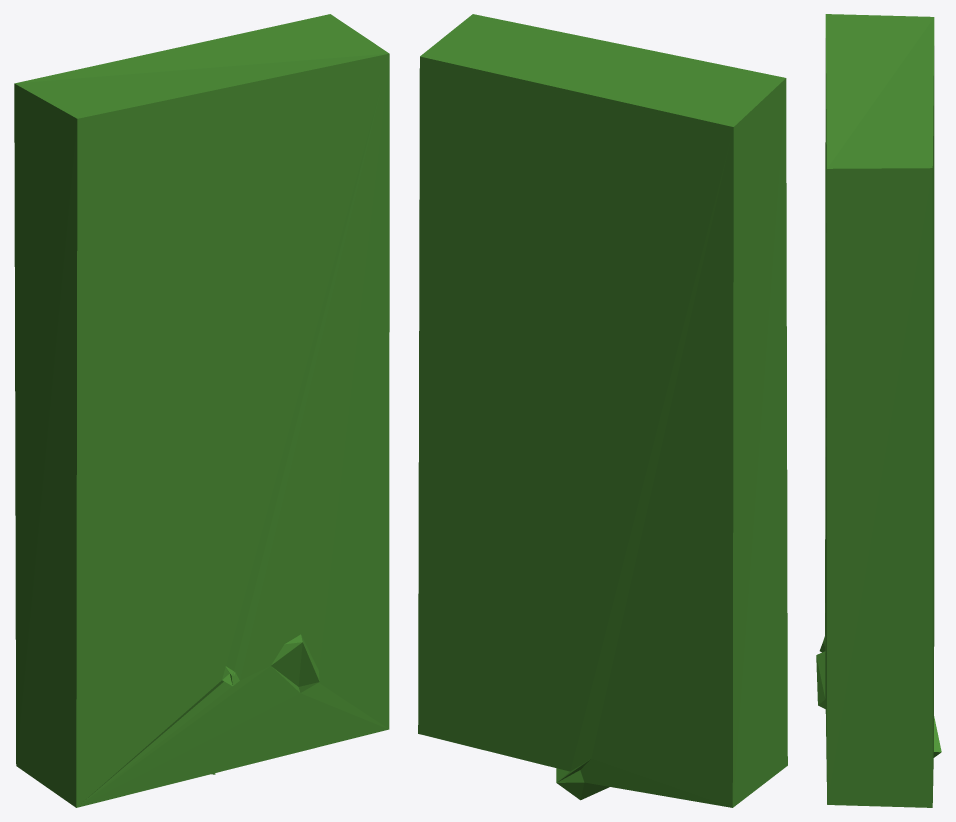
3 views of the same model, side by side, from view 1: azimuth 30°, elevation 25°; view 2: azimuth 150°, elevation 25°; view 3: azimuth 270°, elevation 25° (orthographic). The views are drawn at different scales.
Visible parts, largest first — view 1: 672_Cube.2700; view 2: 672_Cube.2700; view 3: 672_Cube.2700.
Boxes of the visible parts, x1,y1,x2,y2 form: 672_Cube.2700: (14, 14, 389, 807); 672_Cube.2700: (418, 14, 787, 807); 672_Cube.2700: (816, 14, 941, 807).
Bounding box in the file's own units: 5.84 × 12.72 × 2.12.
